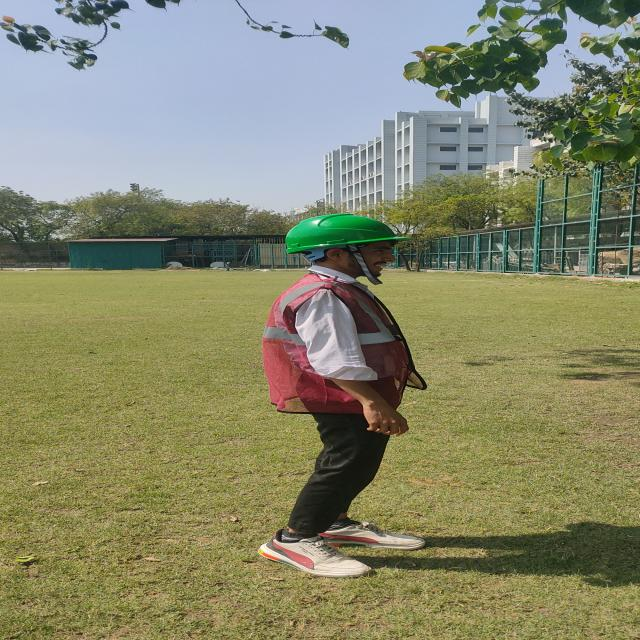safe: (264, 214, 427, 576)
